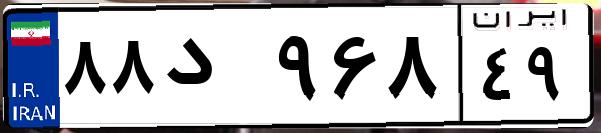4: (475, 38, 525, 113)
6: (330, 28, 385, 110)
8: (385, 28, 445, 110), (57, 26, 110, 100), (110, 28, 158, 98)
9: (270, 28, 330, 110), (525, 38, 570, 115)
د: (158, 20, 270, 120)
